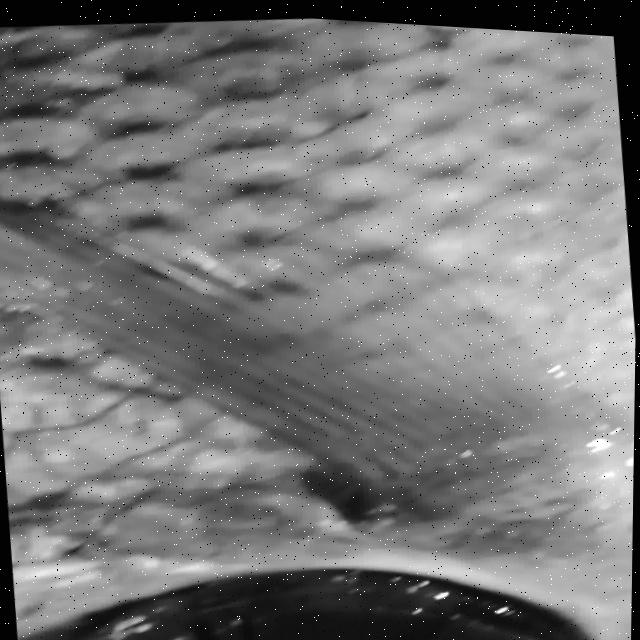Fresh: (50, 534, 581, 640)
